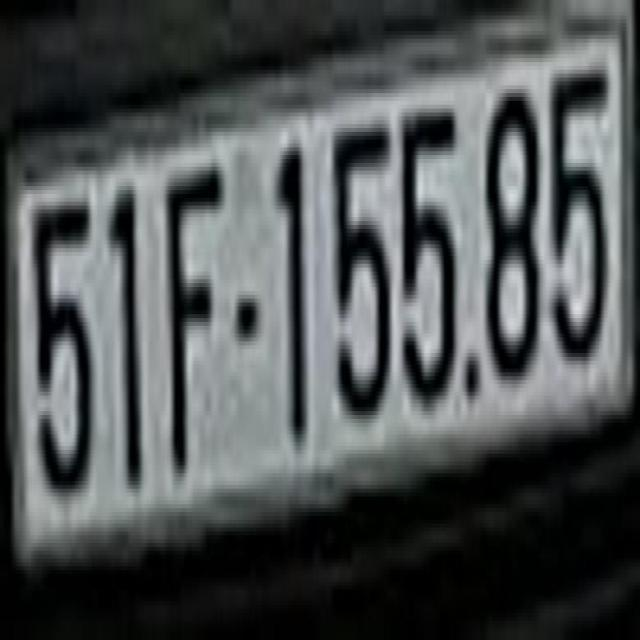1: (269, 120, 311, 466), (106, 178, 147, 484)
5: (332, 108, 396, 426), (32, 182, 94, 504), (548, 59, 611, 372), (400, 89, 458, 419)
8: (480, 73, 542, 384)
F: (162, 148, 224, 474)
